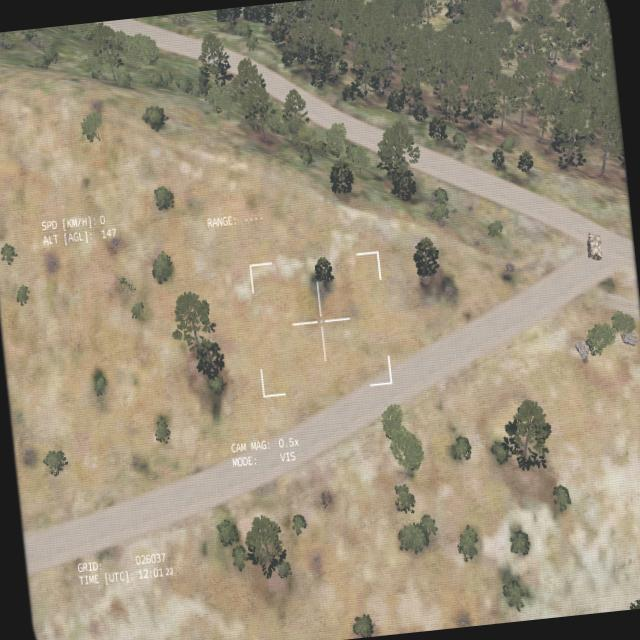apc: (584, 230, 604, 262)
